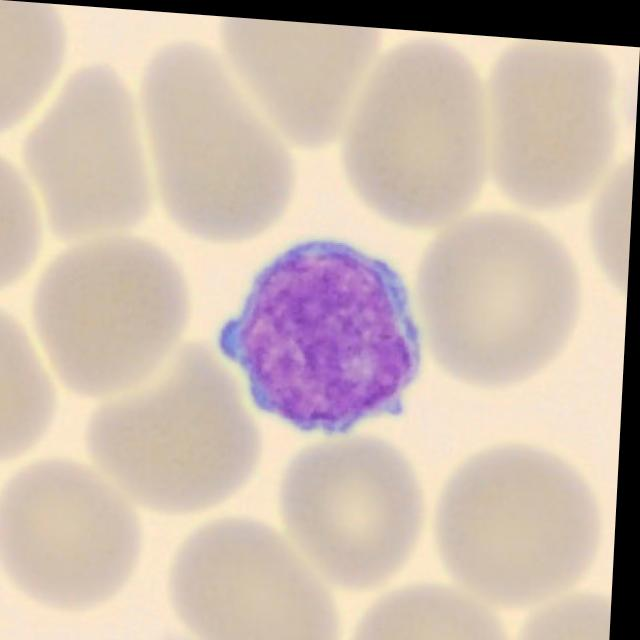Linfocito atipico: (222, 234, 427, 428)
